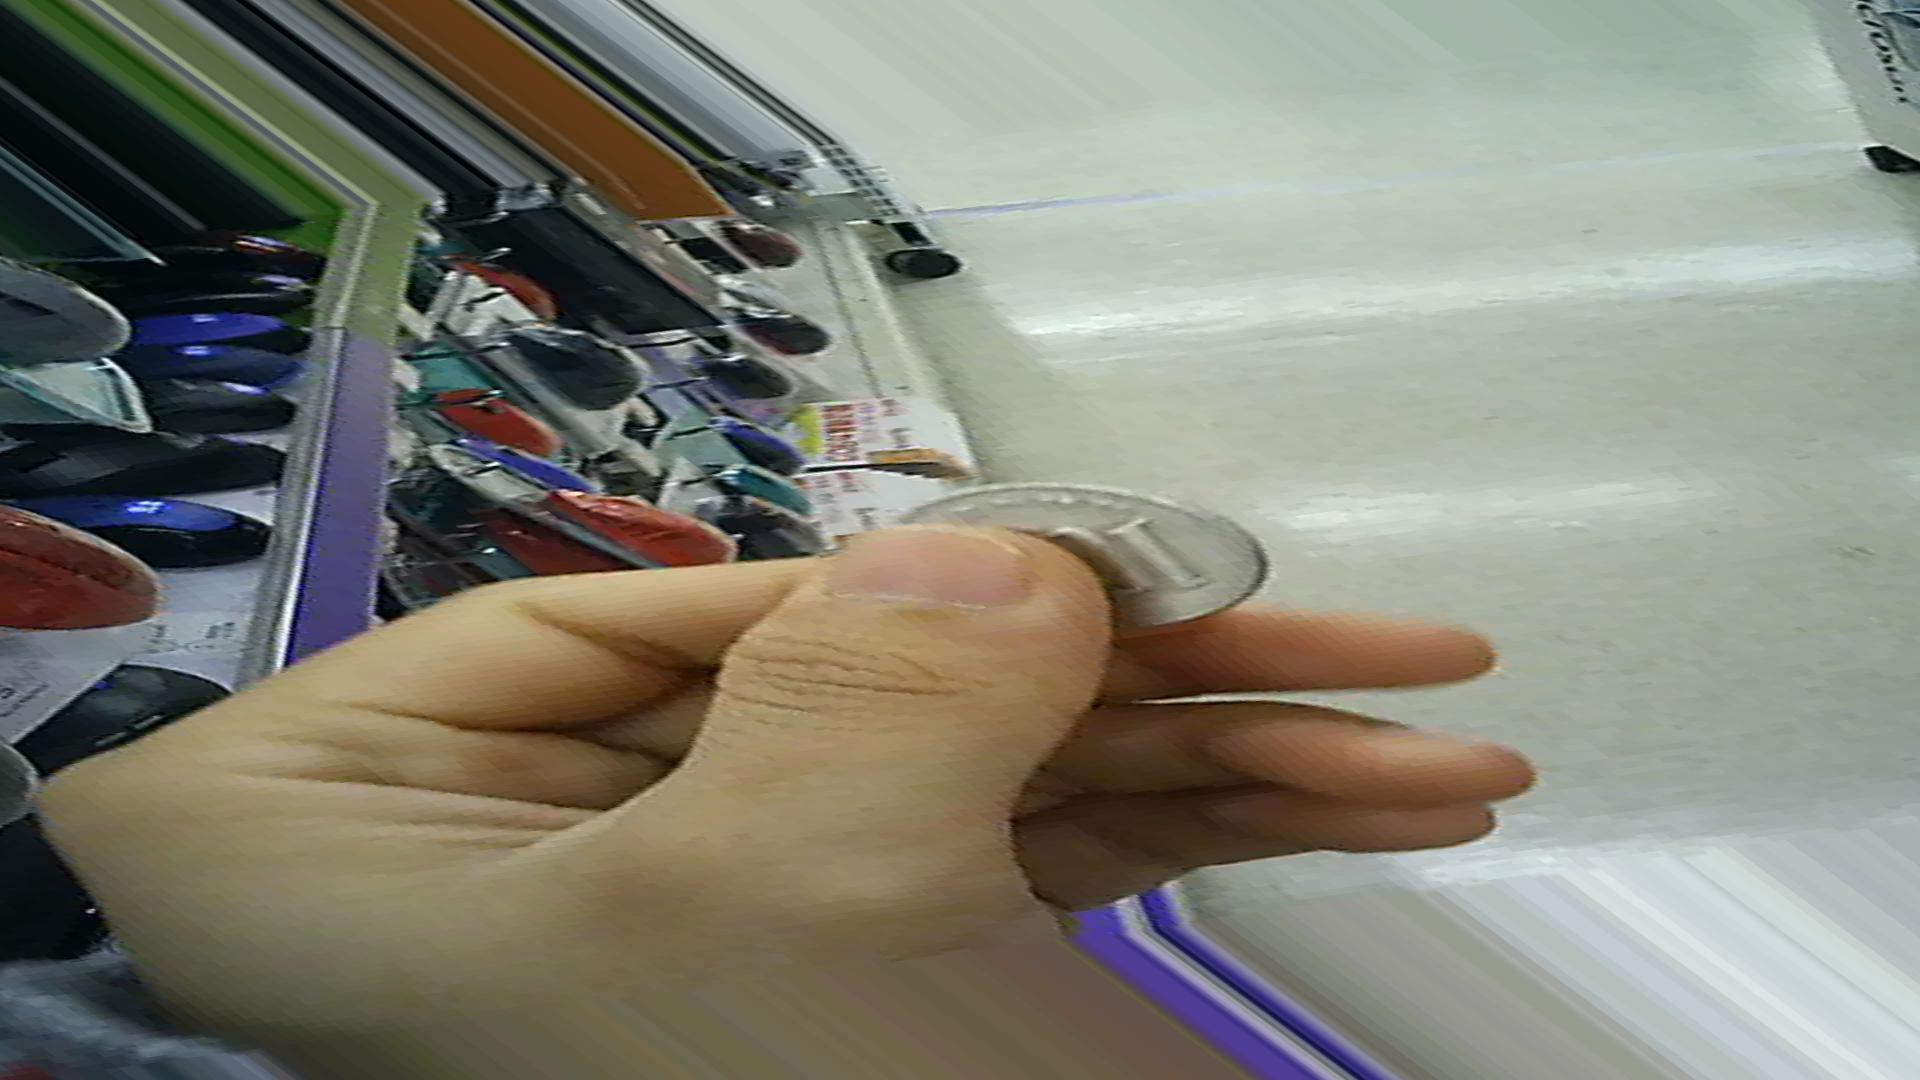100 Yen: (895, 469, 1284, 662)
